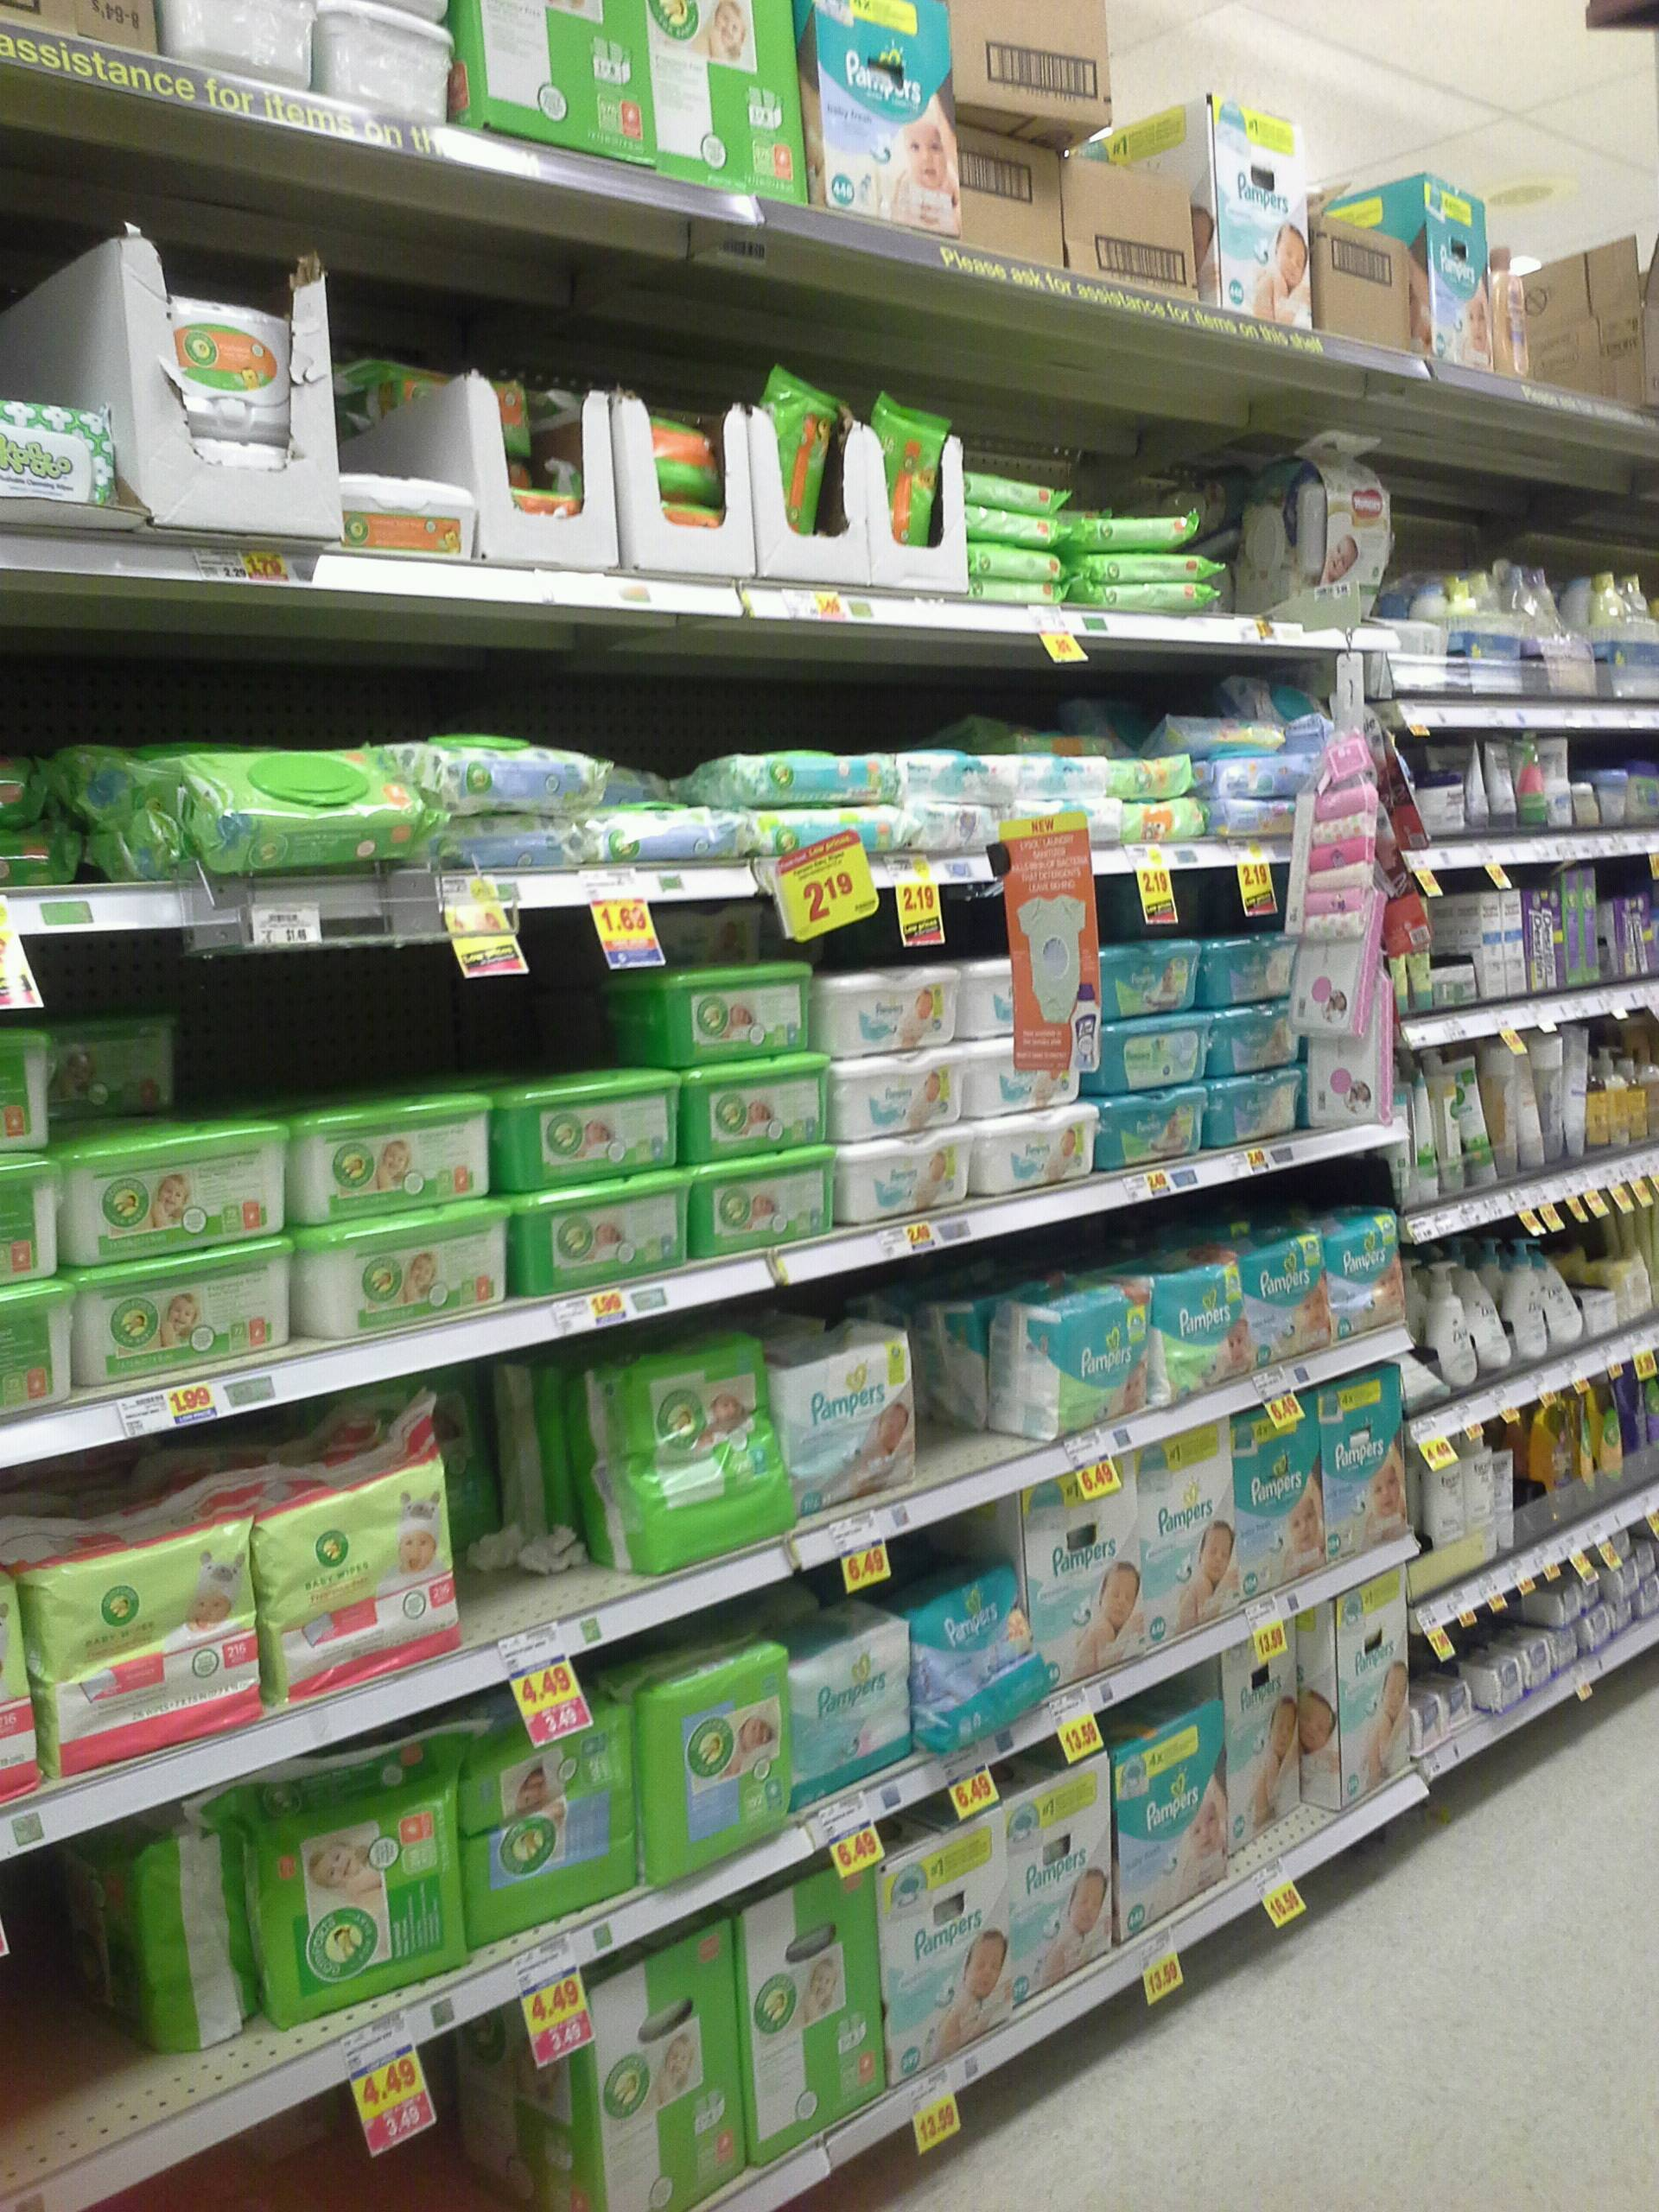Misplacement: (28, 989, 200, 1148)
Out-of-stock: (917, 1303, 1058, 1487)
